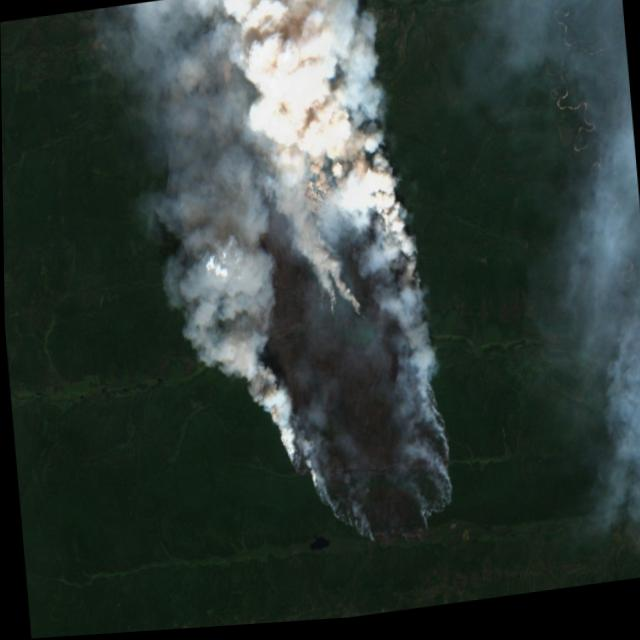fire: (184, 88, 465, 575)
